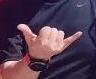clockwise: (17, 22, 83, 56)
